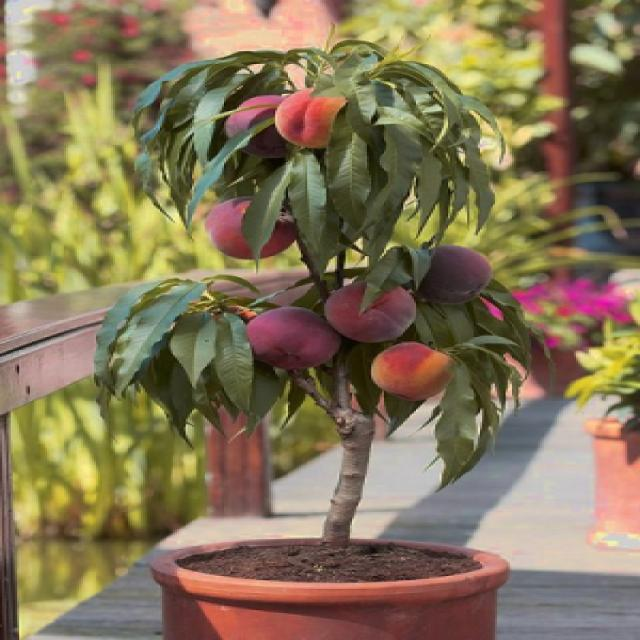peach: (81, 16, 574, 508)
